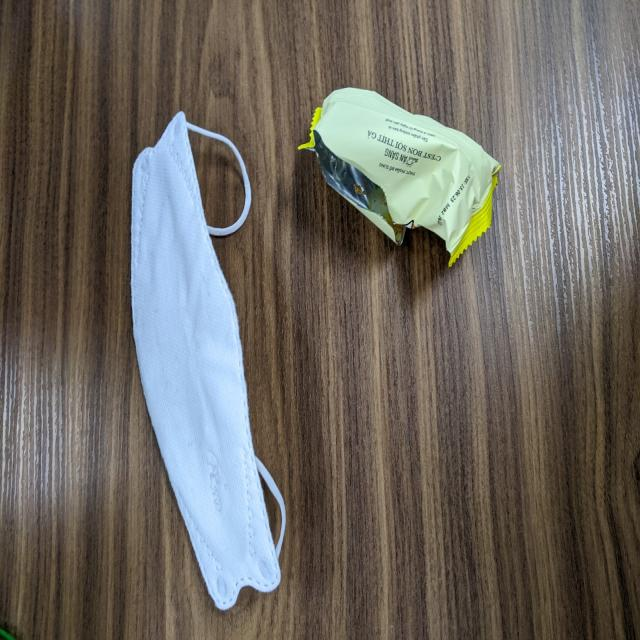mask: (130, 109, 288, 613)
snack package: (297, 87, 502, 269)
